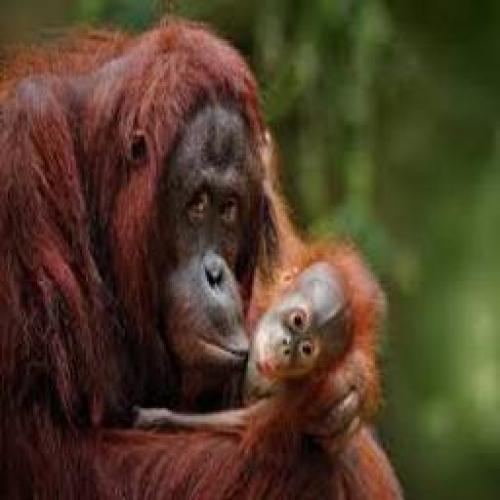orangutan-endangered: (0, 19, 404, 492), (137, 243, 392, 434)
